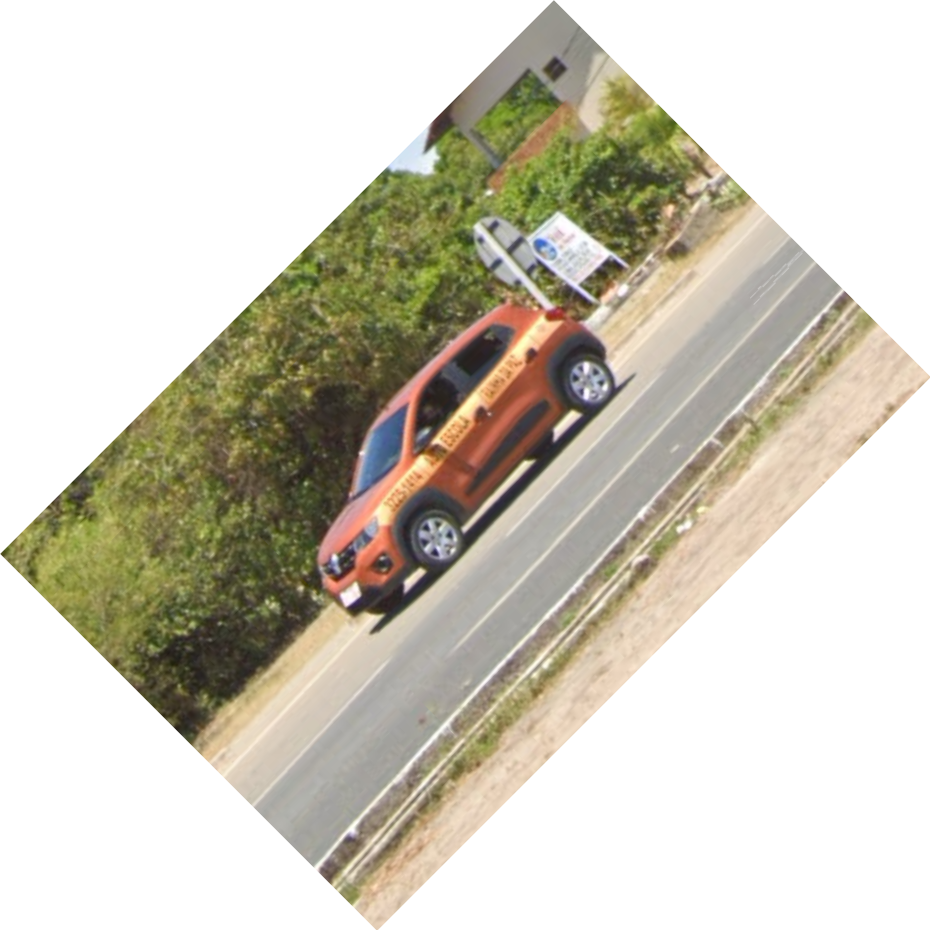car: (313, 299, 619, 620)
